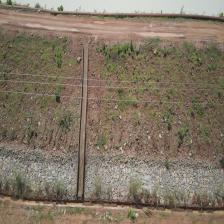rock toe: (84, 148, 224, 206), (0, 146, 76, 199)
slope drain: (76, 43, 88, 200)
